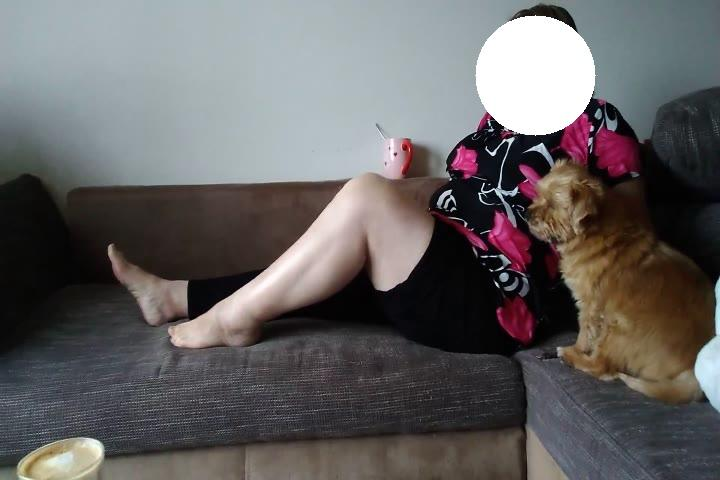lower_body: (102, 165, 529, 369)
